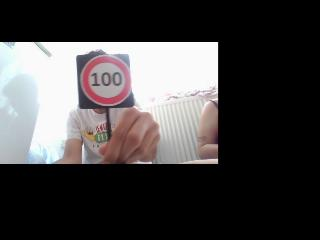Speedlimit_100: (77, 56, 133, 108)
